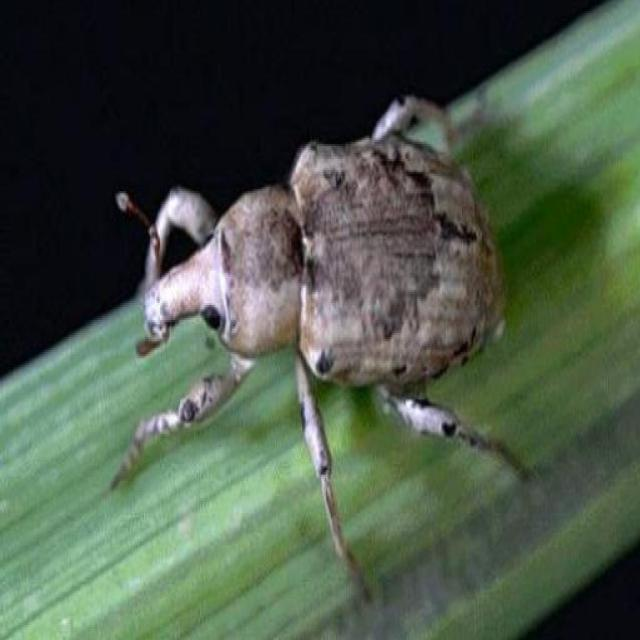ricebug: (112, 96, 525, 596)
